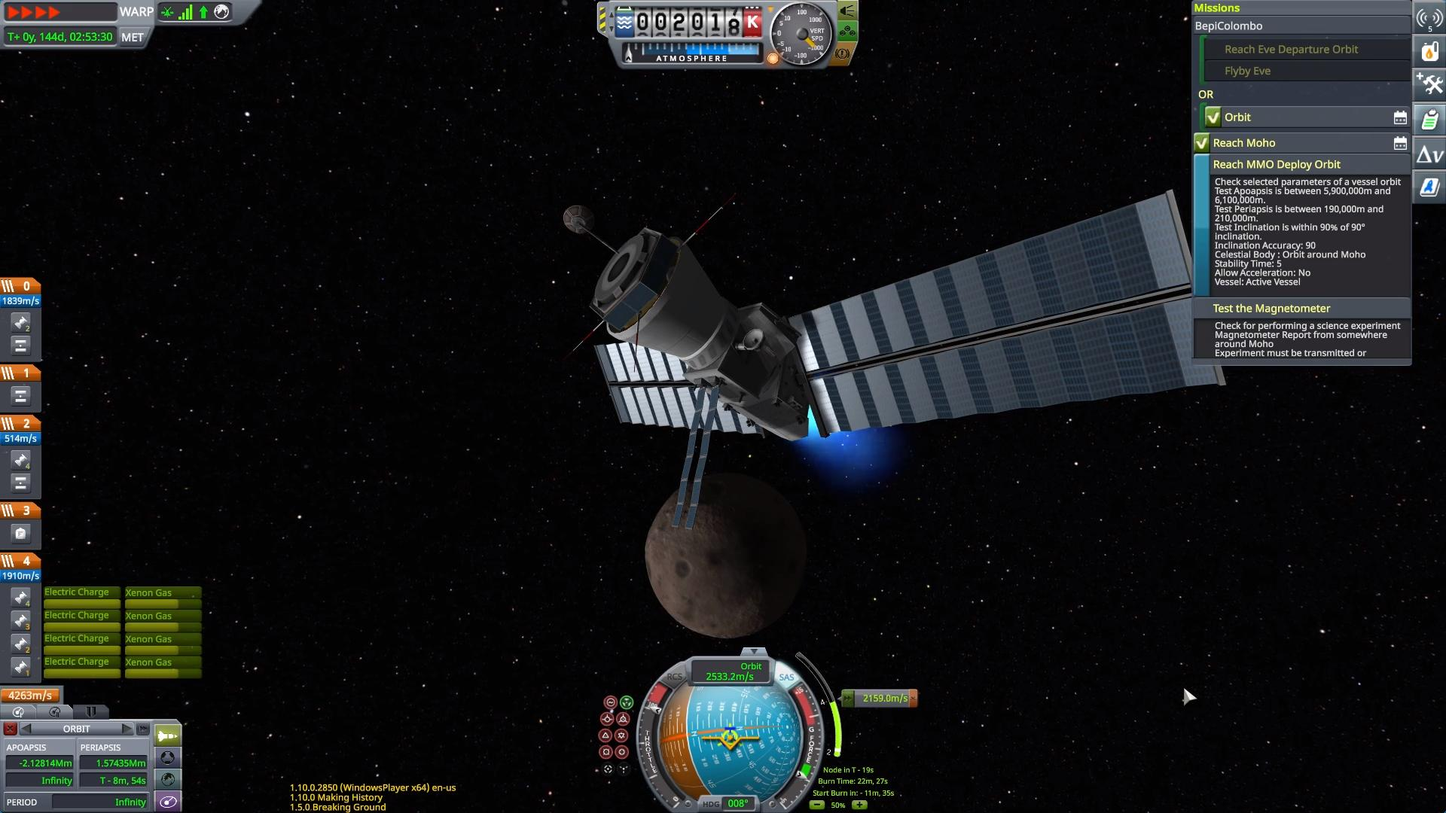antenna: (675, 189, 739, 254), (560, 318, 607, 363), (736, 327, 777, 361), (561, 204, 596, 235), (633, 309, 644, 373)
body: (587, 225, 828, 451)
solar: (786, 190, 1232, 446), (593, 333, 767, 446), (669, 383, 721, 531)
thruster: (795, 416, 801, 421), (746, 419, 752, 424), (746, 423, 752, 428), (773, 402, 777, 409), (776, 403, 781, 408), (724, 406, 728, 412), (798, 421, 803, 425), (728, 406, 731, 411)
